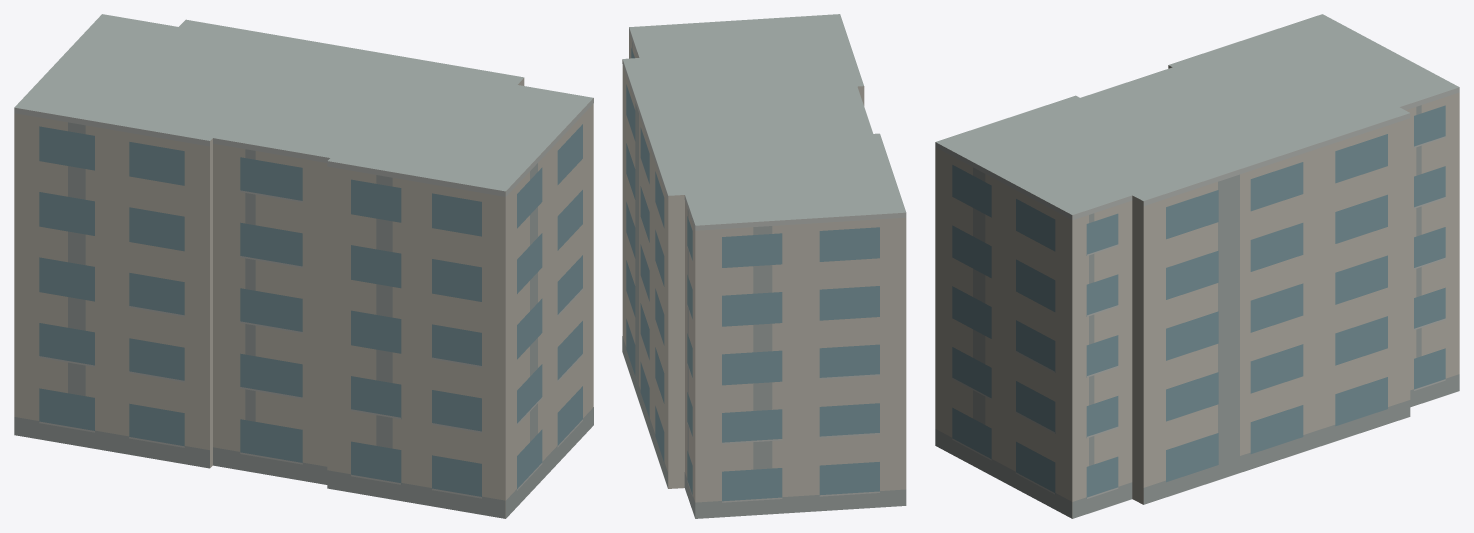
Rendered from survey-upis-32593289.glb.
3 renders of one model, left to right at view 1: azimuth 30°, elevation 25°; view 2: azimuth 150°, elevation 25°; view 3: azimuth 270°, elevation 25°, orthographic. The views are drawn at different scales.
Parts seen in each view (by area): view 1: survey-upis-32593289.tmp; view 2: survey-upis-32593289.tmp; view 3: survey-upis-32593289.tmp.
Boxes of the visible parts, bbox=[...] form: survey-upis-32593289.tmp: bbox=[14, 14, 593, 518]; survey-upis-32593289.tmp: bbox=[622, 14, 906, 518]; survey-upis-32593289.tmp: bbox=[935, 14, 1459, 518].
Bounding box in the file's own units: 20.33 × 14.3 × 22.39.
